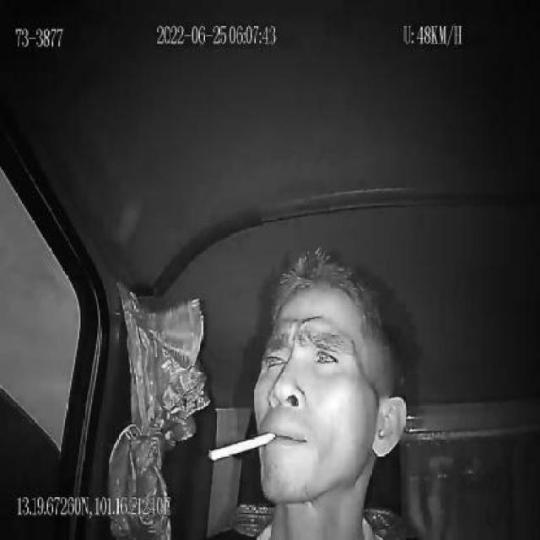smoking: (206, 428, 278, 466)
